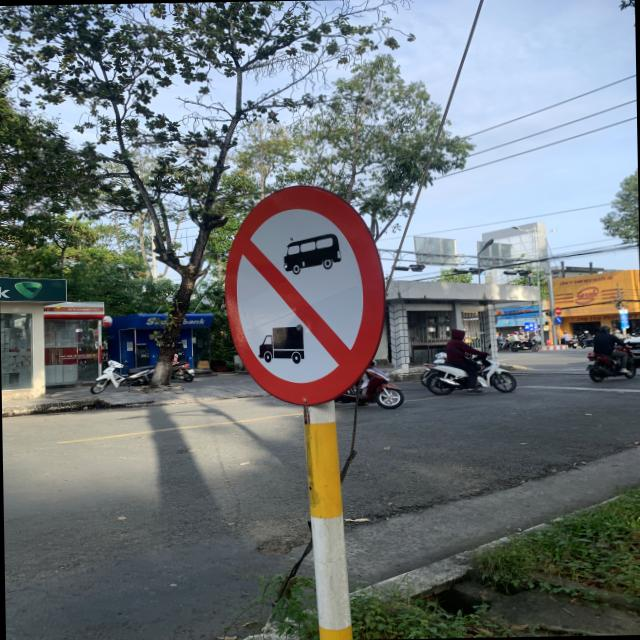Cam_XeTai_XeKhach: (222, 184, 388, 408)
